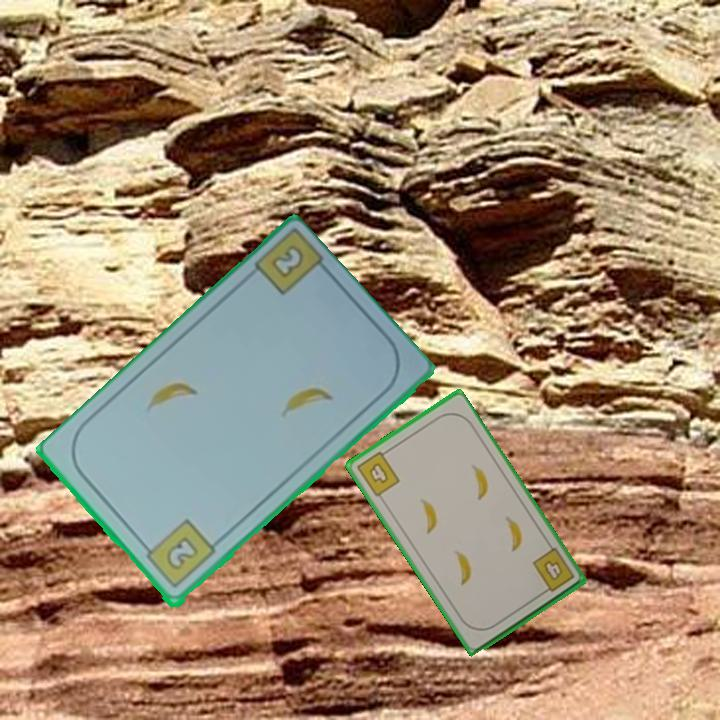2b: (138, 516, 218, 593), (267, 242, 307, 282)
4b: (353, 445, 402, 500), (528, 544, 577, 598)
